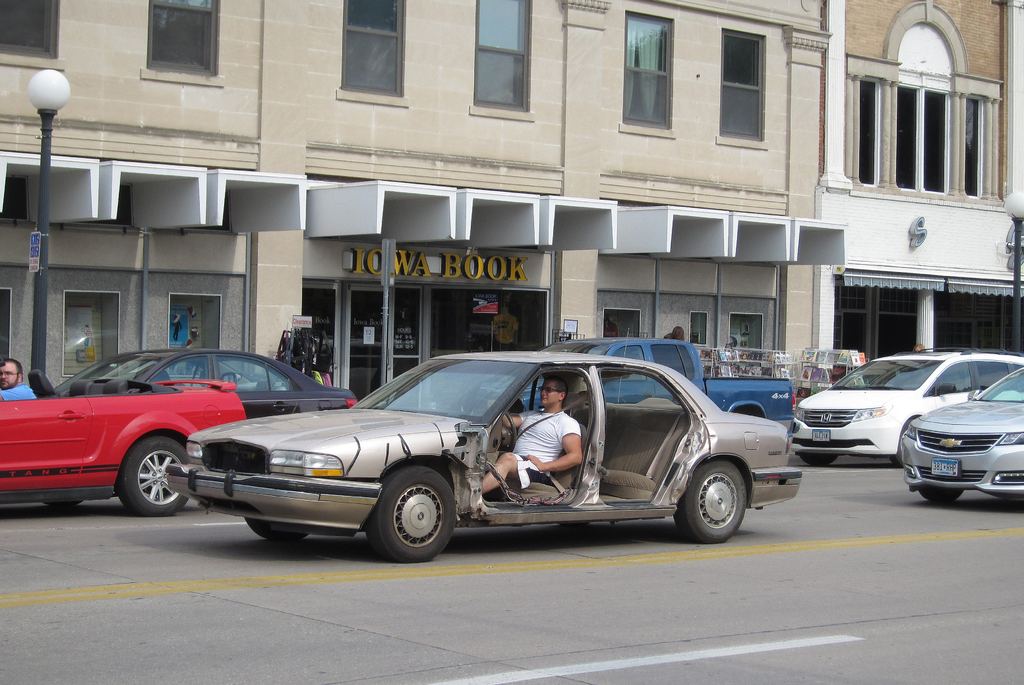Car: (164, 351, 799, 561), (0, 379, 240, 513), (794, 347, 1023, 469), (59, 351, 361, 418), (896, 369, 1023, 503)
